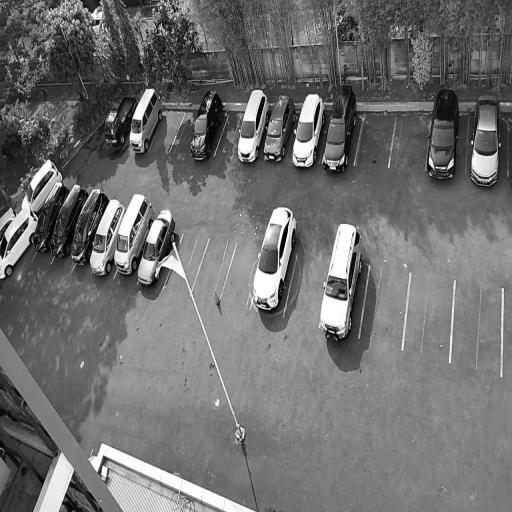Car: (315, 215, 367, 342), (248, 201, 302, 315), (134, 203, 183, 289), (112, 189, 157, 277), (320, 80, 362, 174), (424, 86, 462, 181), (68, 186, 112, 266), (288, 88, 329, 170), (467, 93, 502, 188), (87, 195, 127, 278), (47, 182, 90, 259), (187, 85, 228, 162), (235, 84, 273, 163), (31, 179, 71, 254), (260, 89, 300, 163), (127, 83, 168, 154), (0, 206, 38, 281), (21, 155, 64, 214), (104, 89, 140, 149), (0, 205, 18, 248)
Space Available: (451, 280, 502, 375), (404, 273, 454, 361), (360, 263, 409, 349), (284, 248, 329, 323), (163, 234, 209, 294), (221, 240, 261, 306), (192, 237, 236, 296), (354, 111, 396, 167), (389, 115, 430, 169), (148, 108, 185, 152), (214, 113, 244, 156), (170, 112, 198, 153)
